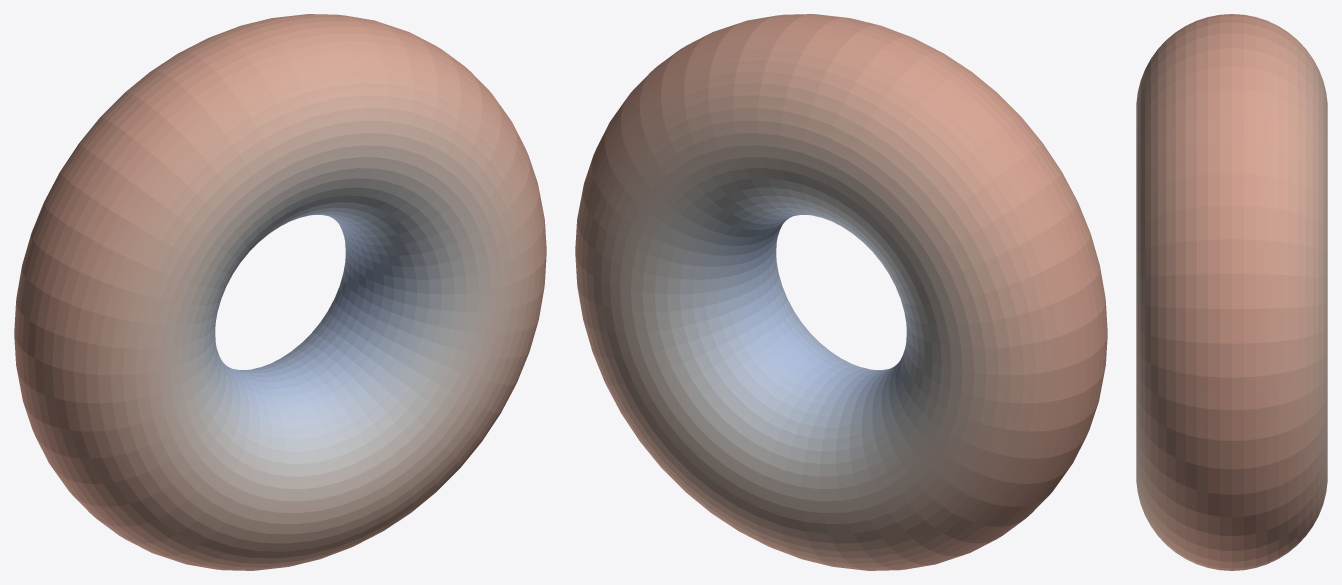
3 renders of one model, left to right at view 1: azimuth 30°, elevation 25°; view 2: azimuth 150°, elevation 25°; view 3: azimuth 270°, elevation 25°, orthographic. The views are drawn at different scales.
Visible parts, largest first — view 1: world; view 2: world; view 3: world.
Boxes of the visible parts, box(x1,y1,x2,y2) form: world: box(14, 14, 546, 570); world: box(575, 14, 1107, 570); world: box(1136, 14, 1327, 570).
Size of the model in its own units: 24.4 by 24.35 by 8.38.
